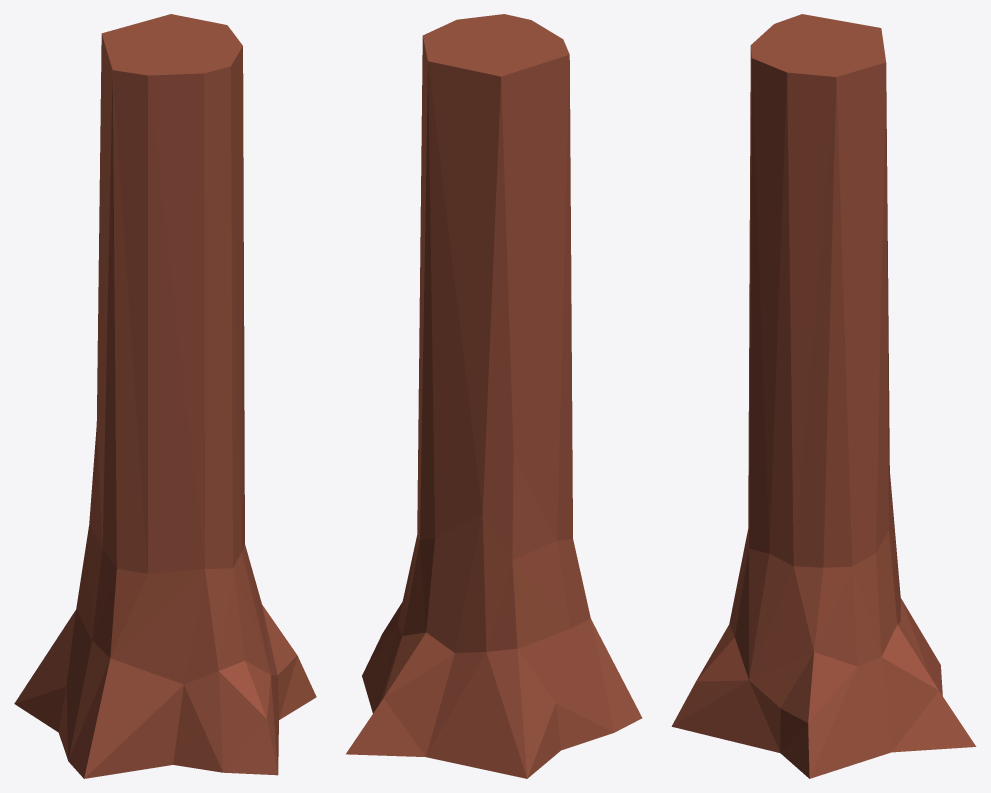
File: trunk.glb
3 views of the same model, side by side, from view 1: azimuth 30°, elevation 25°; view 2: azimuth 150°, elevation 25°; view 3: azimuth 270°, elevation 25° (orthographic). The views are drawn at different scales.
Visible parts, largest first — view 1: trunk; view 2: trunk; view 3: trunk.
Part boxes in pixels (left/top/right/bottom): trunk: left=14, top=14, right=316, bottom=778; trunk: left=346, top=14, right=642, bottom=778; trunk: left=671, top=14, right=976, bottom=778.
Size of the model in its own units: 3.97 by 9.96 by 4.13.
